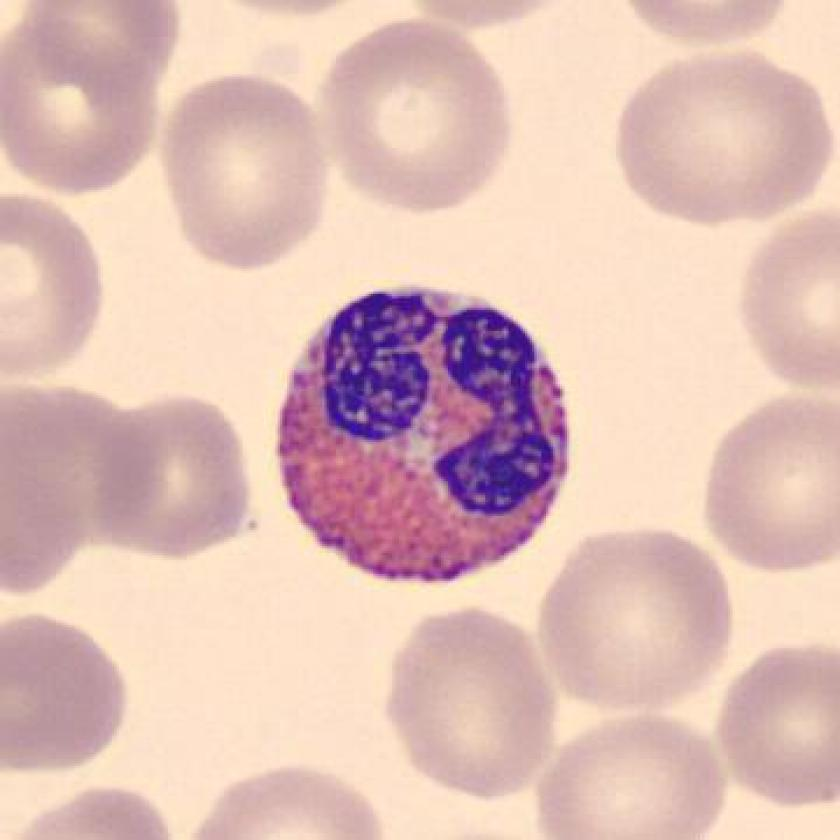eosinophil: (265, 276, 582, 603)
